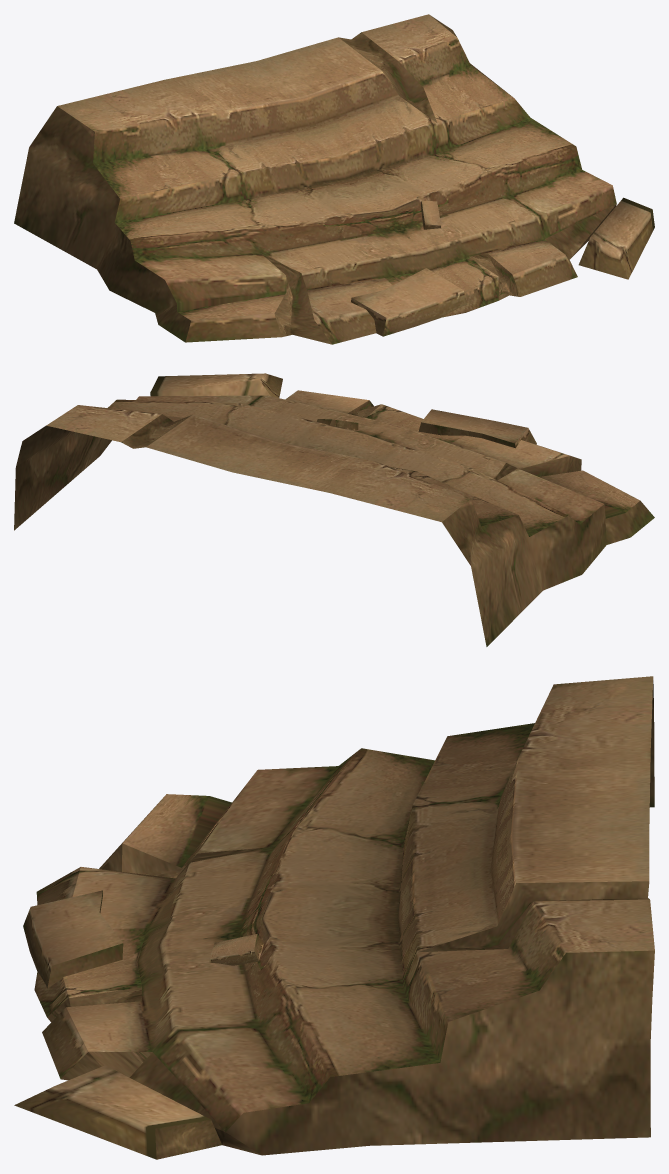
Rendered from yw_leinabao_taijie01.FBX.
The picture shows the model from 3 angles, top to bottom: view 1: azimuth 30°, elevation 25°; view 2: azimuth 150°, elevation 25°; view 3: azimuth 270°, elevation 25°; orthographic projection. The views are drawn at different scales.
Visible parts, largest first — view 1: yw_leinabao_taijie01; view 2: yw_leinabao_taijie01; view 3: yw_leinabao_taijie01.
Part boxes in pixels (x1,y1,x2,y2): yw_leinabao_taijie01: [14, 14, 654, 344]; yw_leinabao_taijie01: [14, 373, 654, 646]; yw_leinabao_taijie01: [14, 676, 654, 1159].
Bounding box in the file's own units: 431 × 93.85 × 331.
